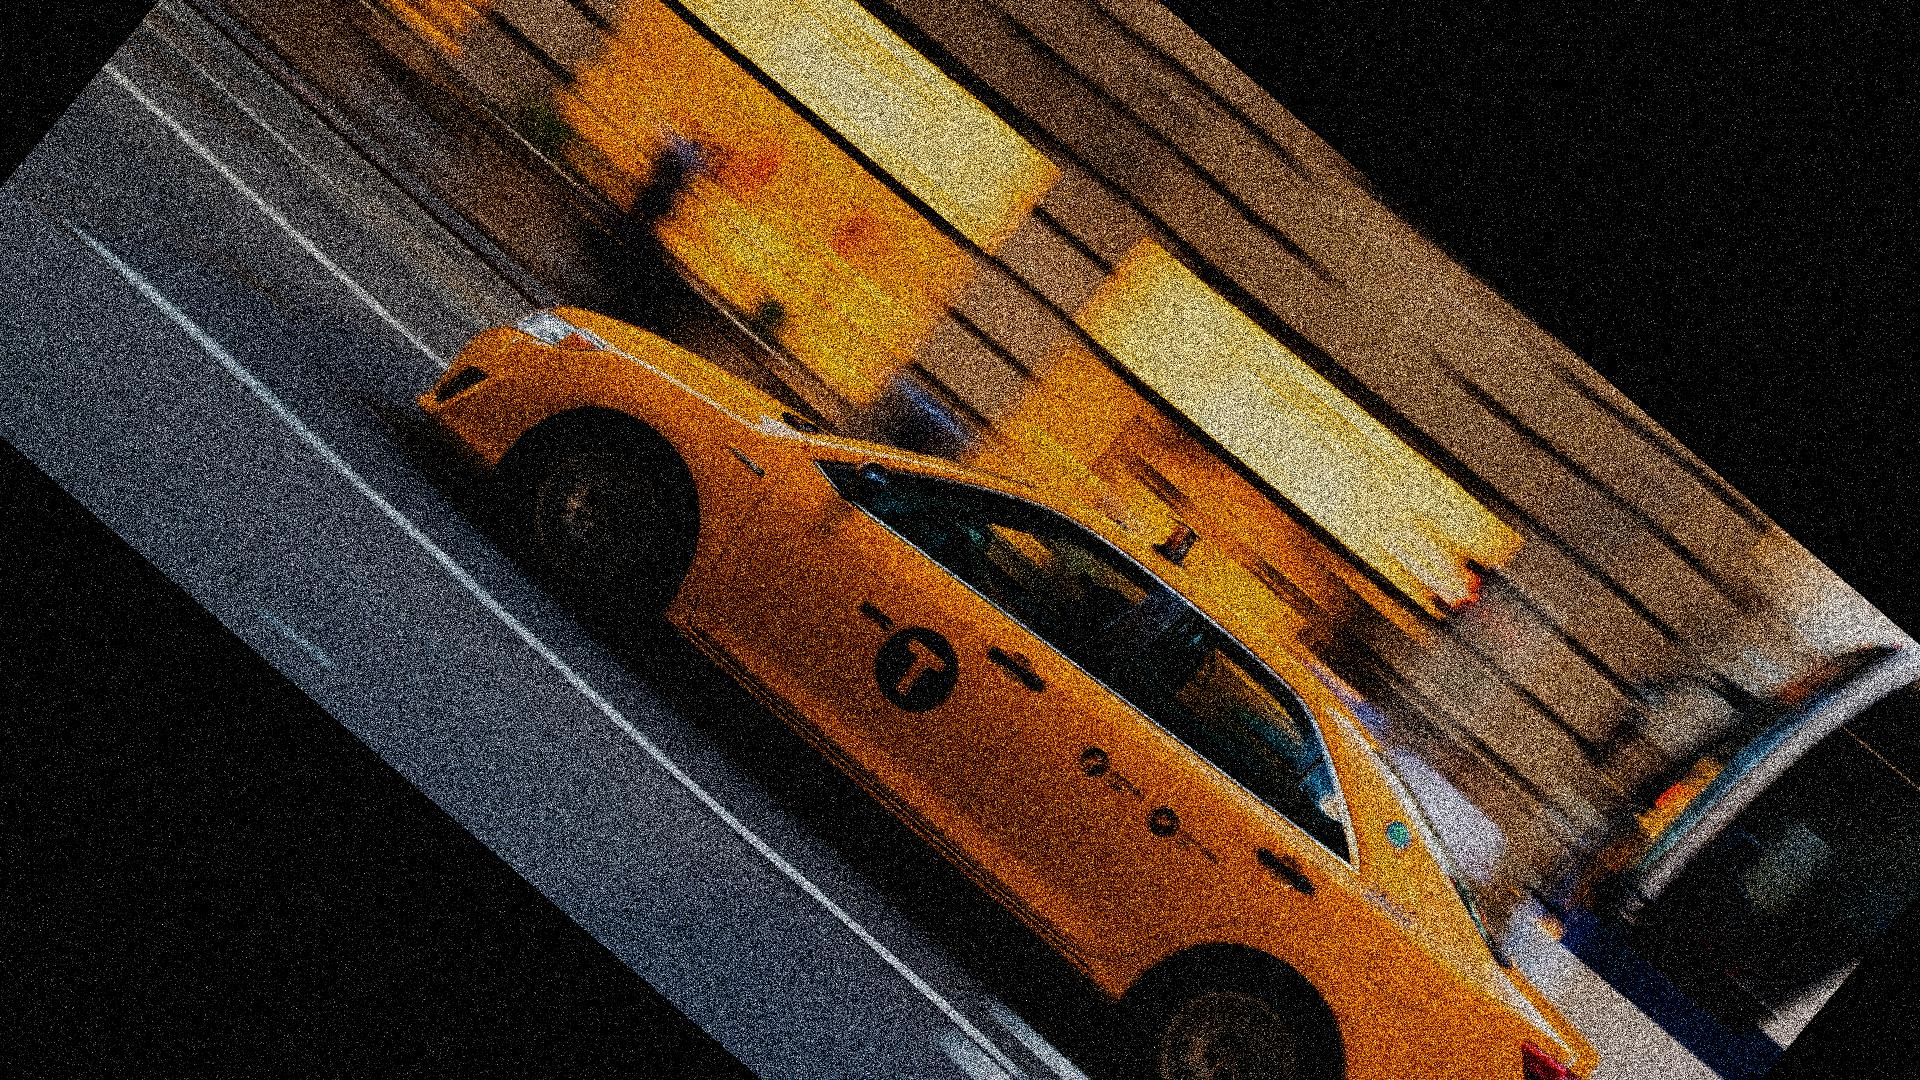taxi: (404, 256, 1629, 1080)
